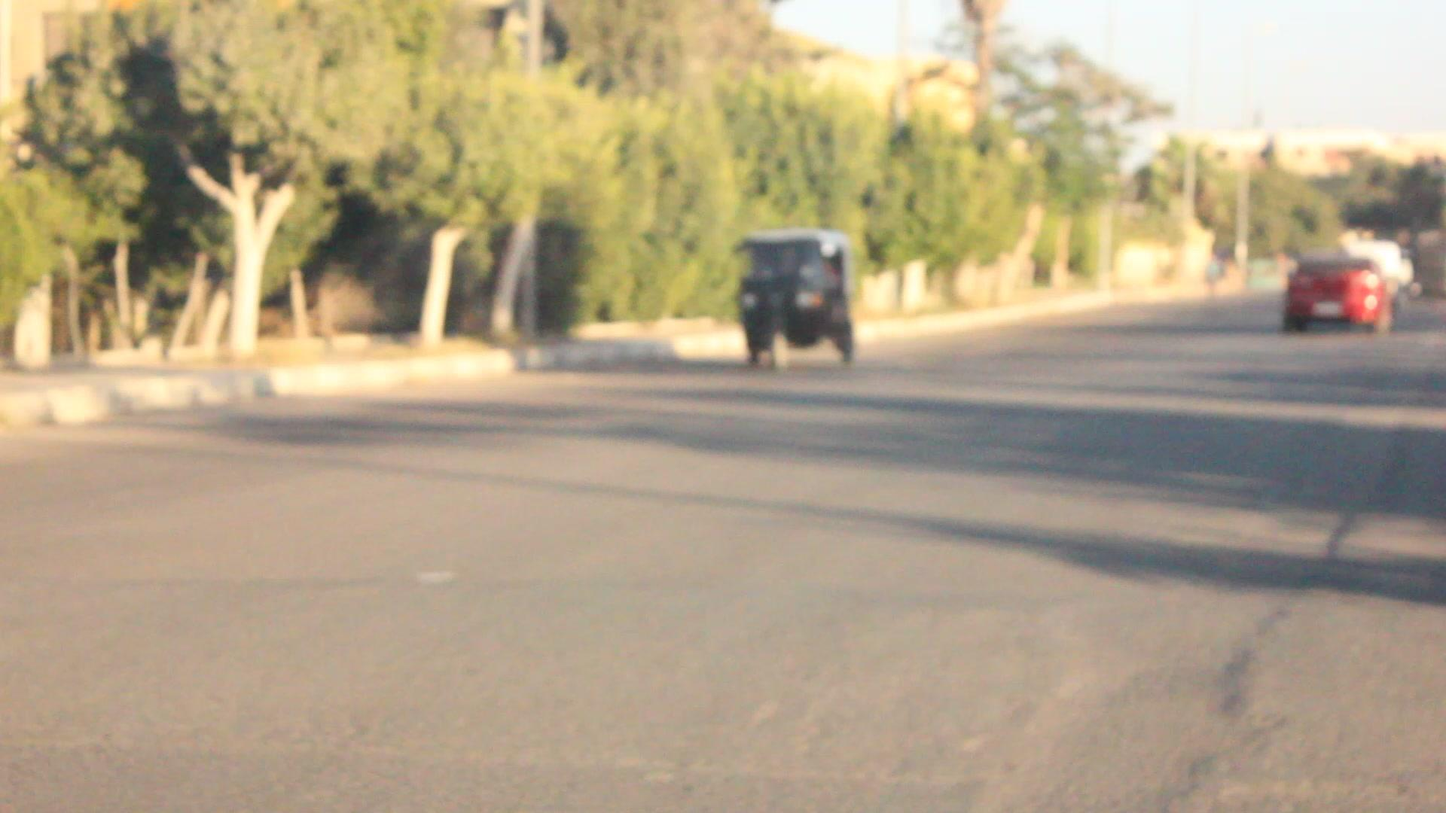Bump: (0, 570, 1446, 757)
Pothole: (1030, 668, 1231, 813)
